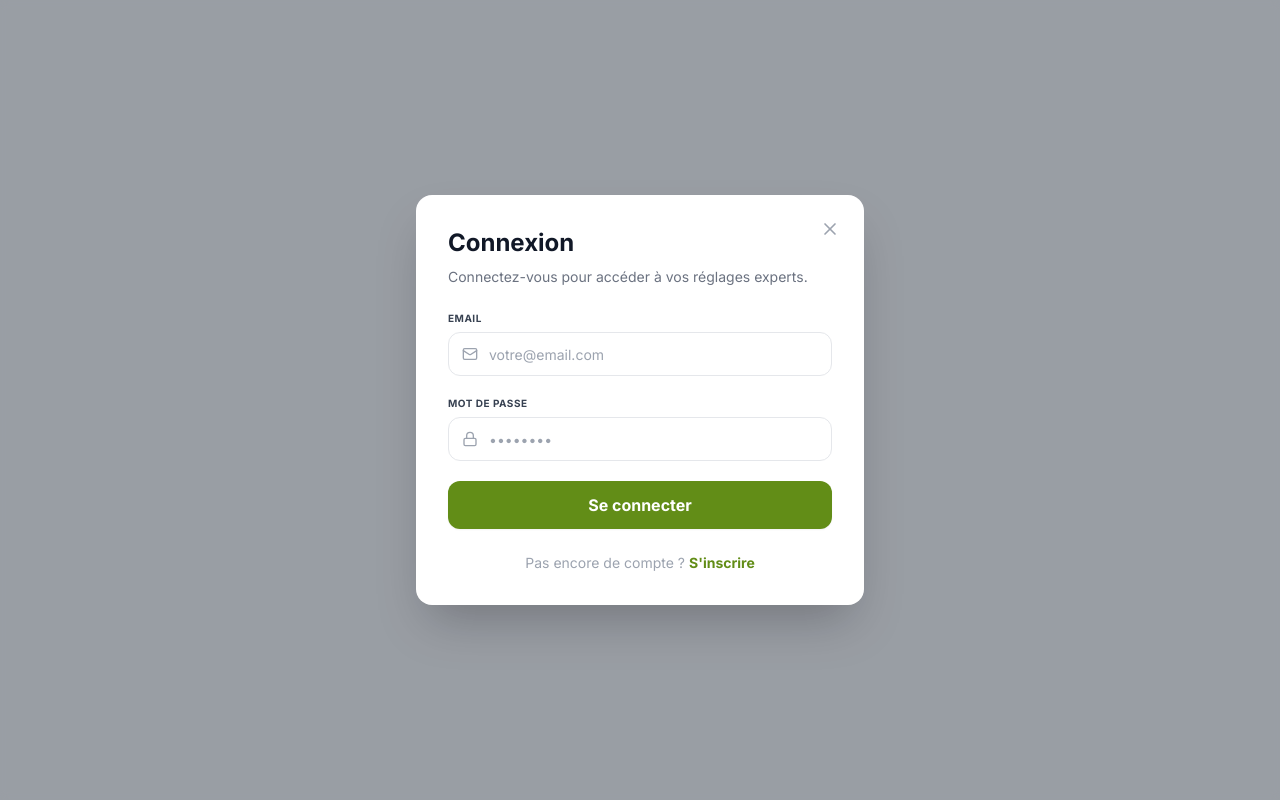
Scenario: AuthModal Component › switches to registration mode when link is clicked
The image size is (1280, 800).
Click the button "S'inscrire": (722, 563) [689, 553, 755, 573]
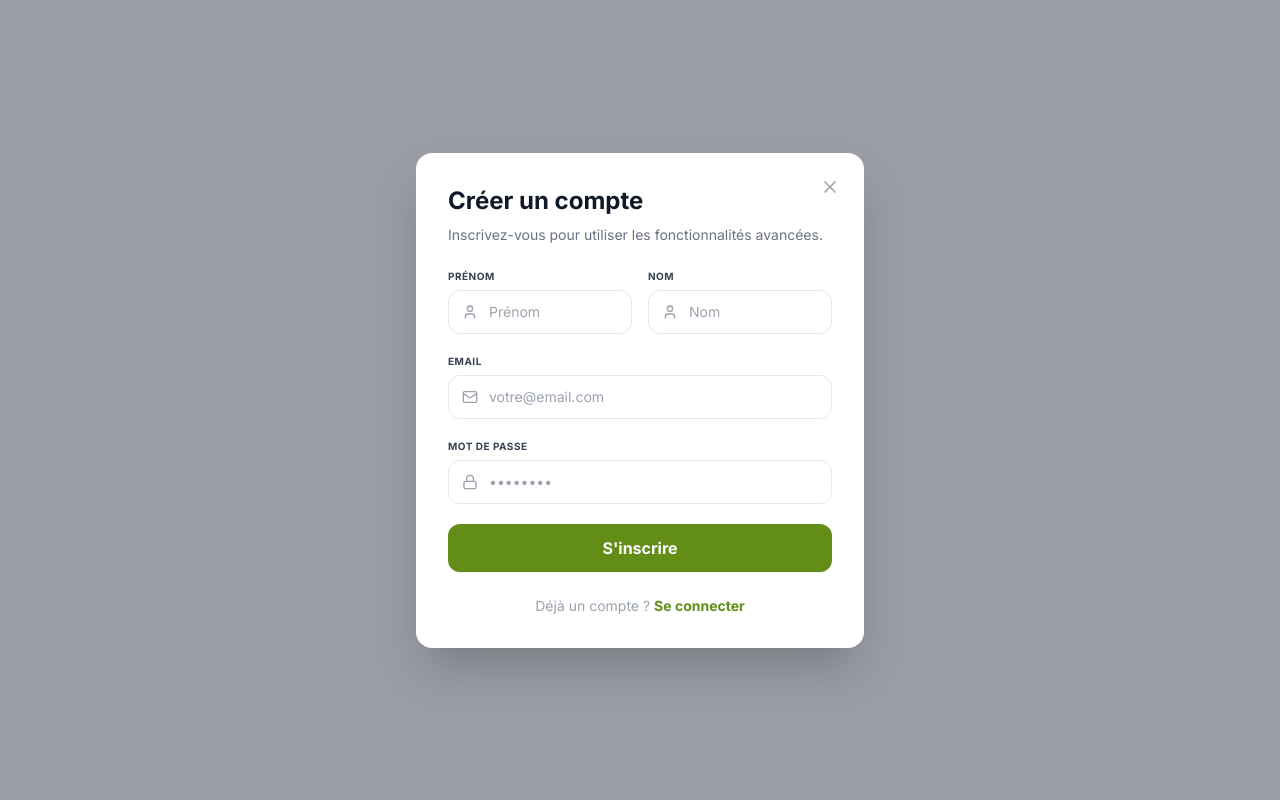
expect the heading "Créer un compte" is shown: met, box [448, 186, 643, 214]
expect the field with placeholder "Prénom" is shown: met, box [448, 290, 632, 334]
expect the field with placeholder "Nom" is shown: met, box [648, 290, 832, 334]
